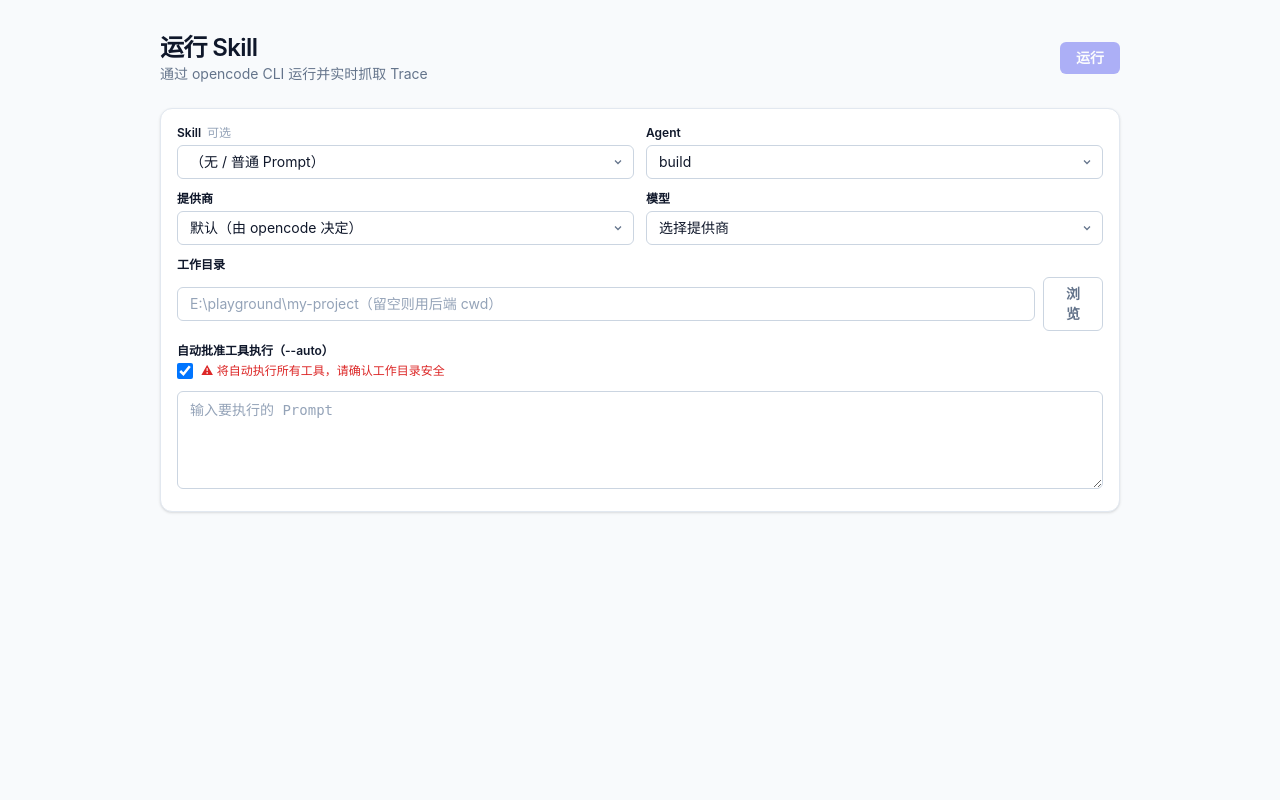
RunPage › breadcrumb navigation handles POSIX root and segments (T2)
Click the button "浏览": (1073, 304) [1043,277,1103,331]
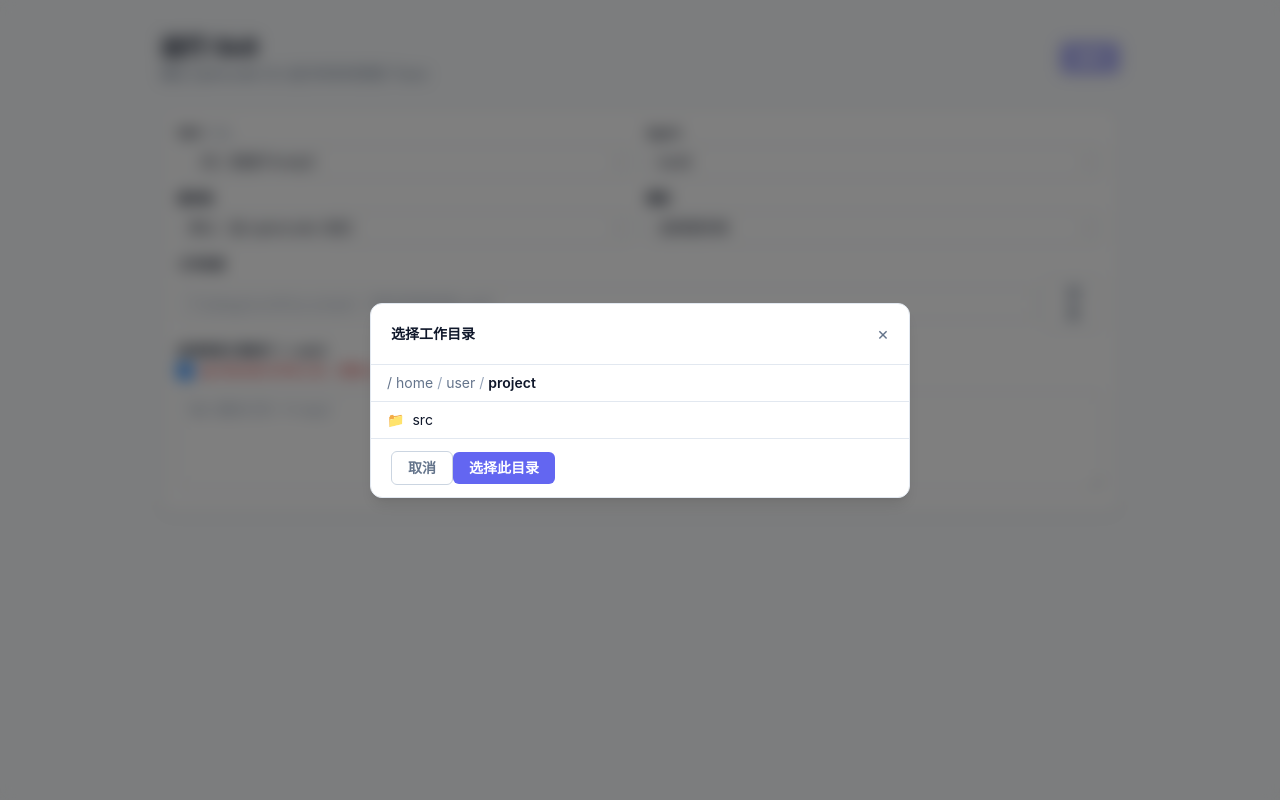
Now the text "src" is shown, box [412,410,433,430]
Click the button "user": (461, 382) [446,372,475,392]
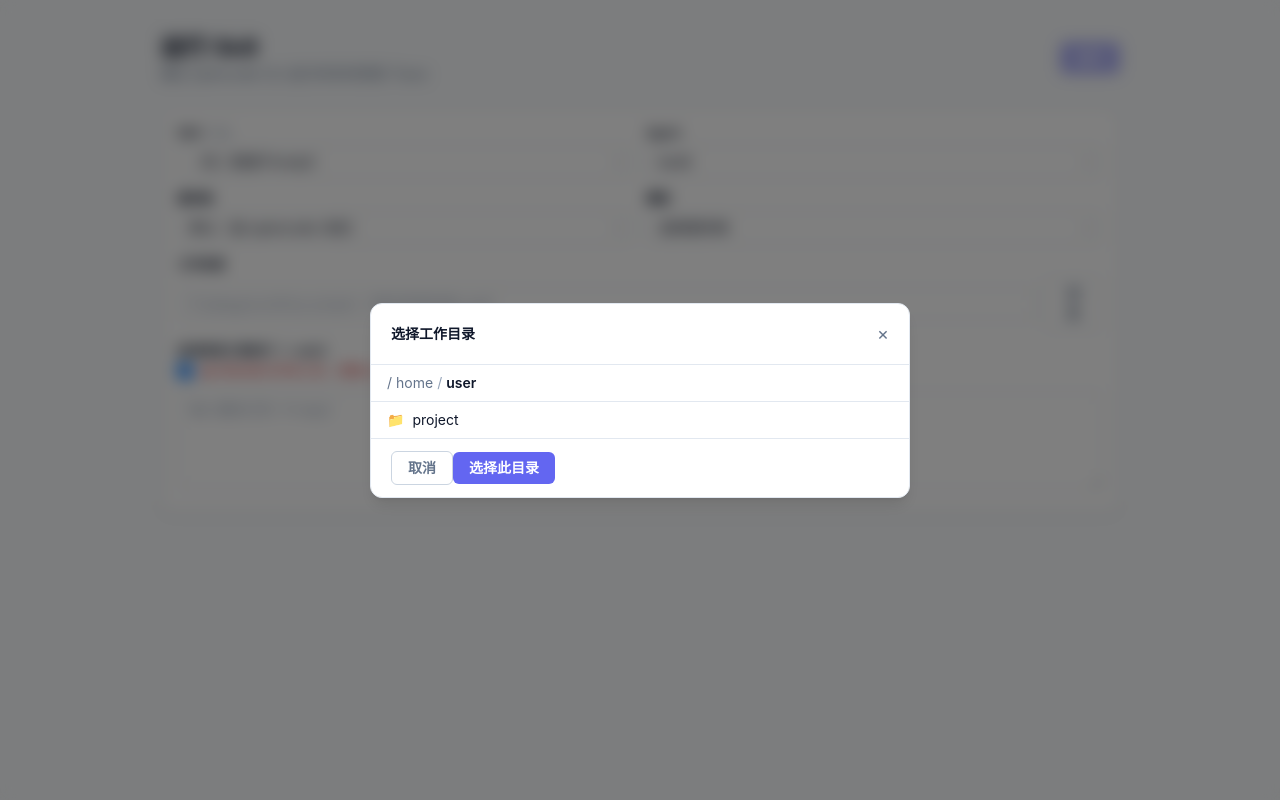
Now the text "project" is shown, box [412,410,459,430]
Click the button "/": (390, 382) [387,372,392,392]
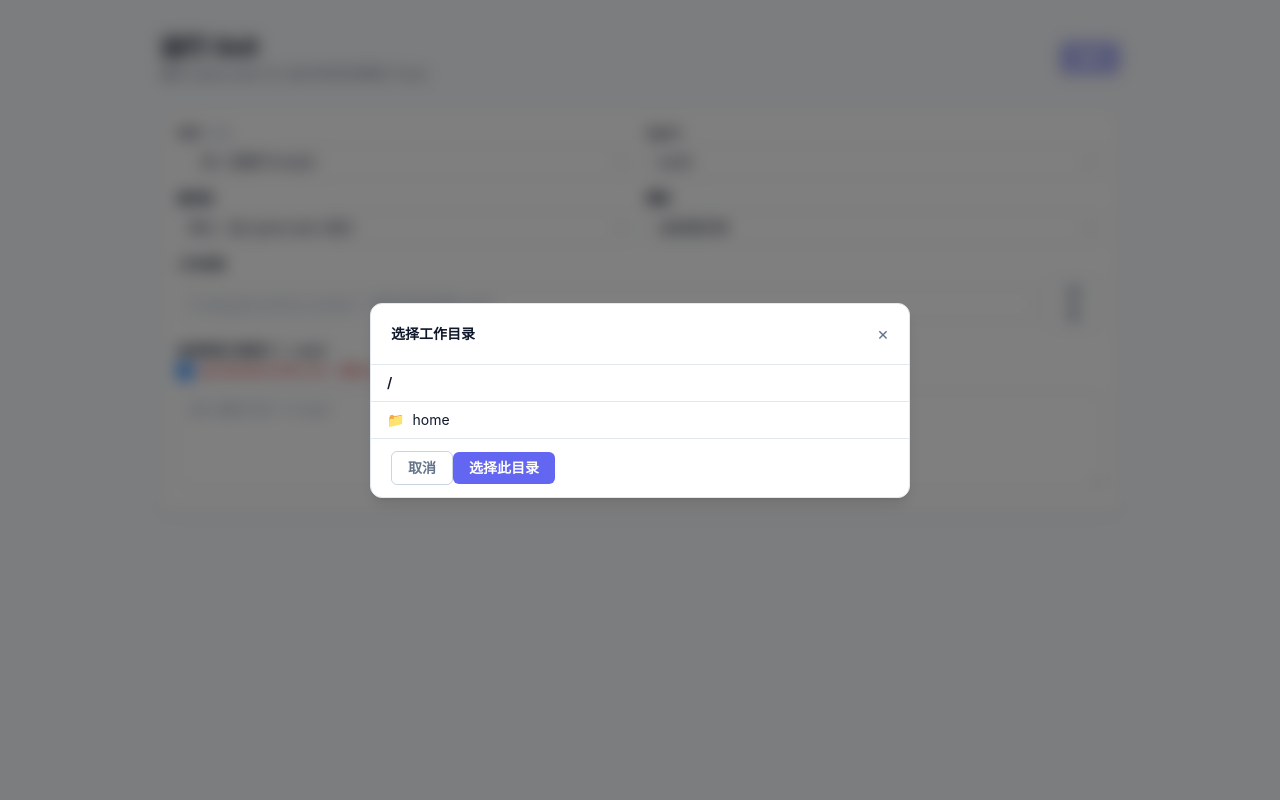
Now the text "home" is shown, box [412,410,450,430]
